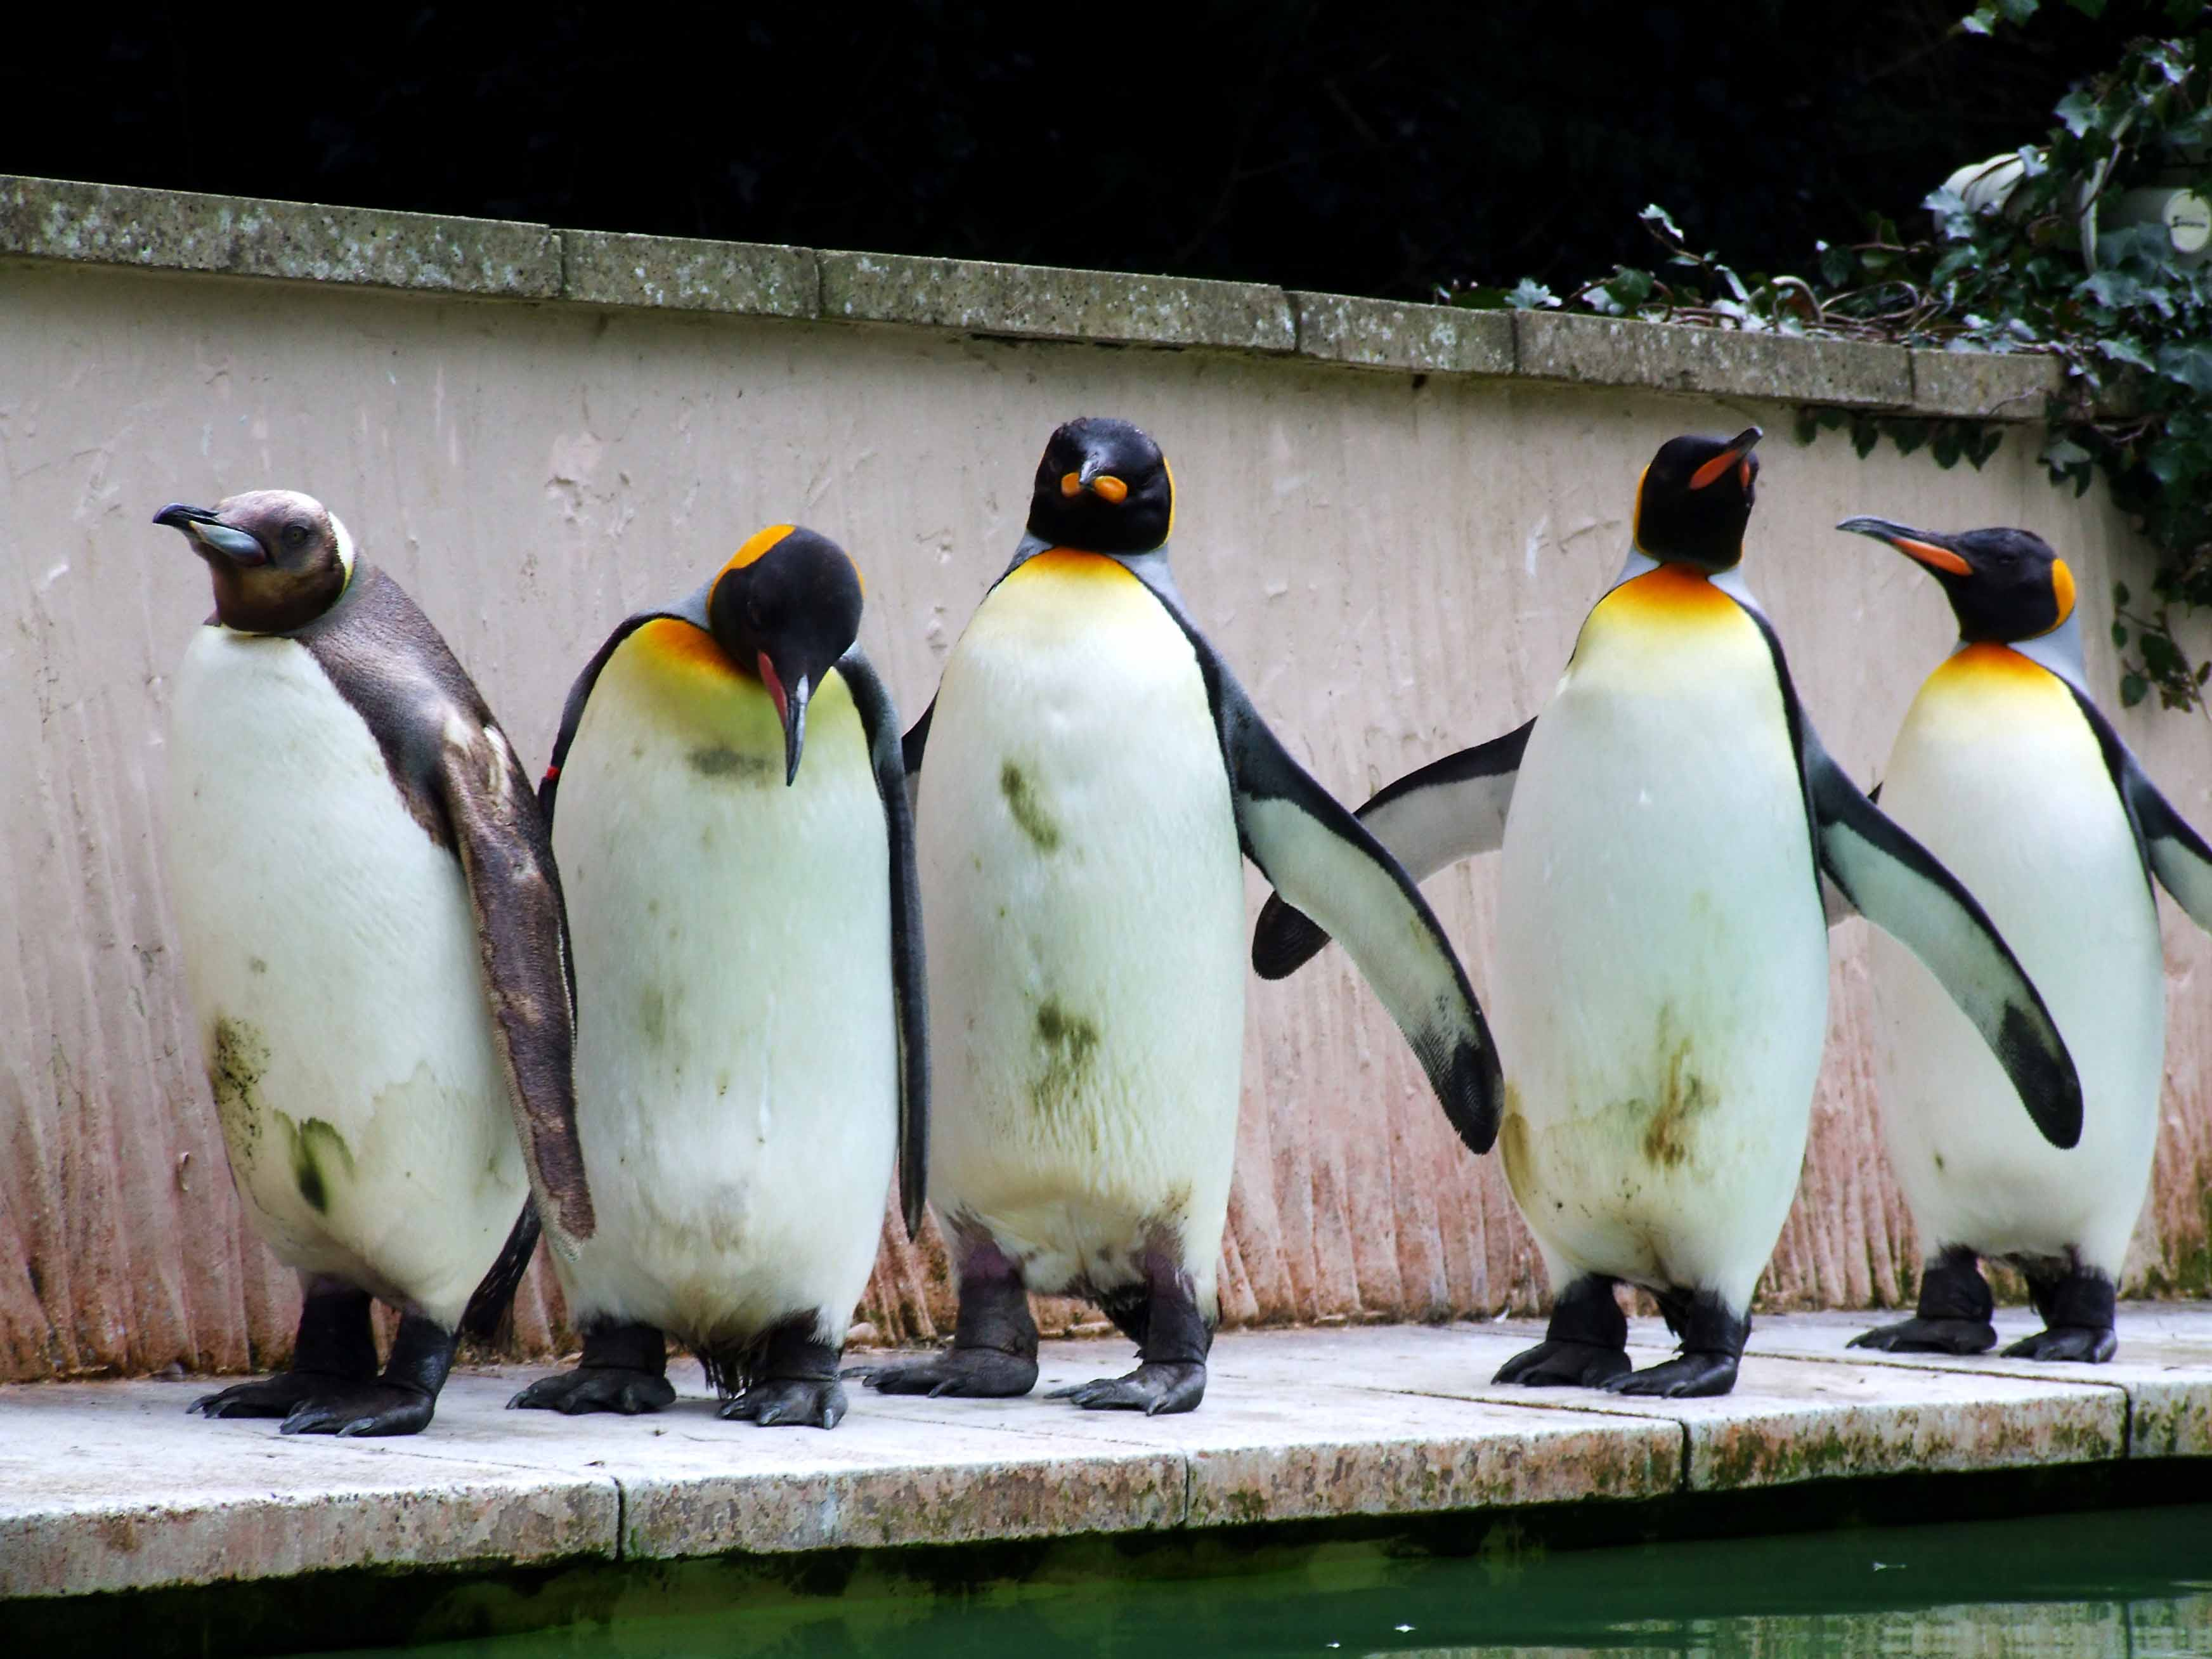penguin: (1252, 436, 2081, 1394), (916, 410, 1496, 1394), (141, 486, 604, 1438), (524, 526, 916, 1401), (1834, 509, 2212, 1373)
